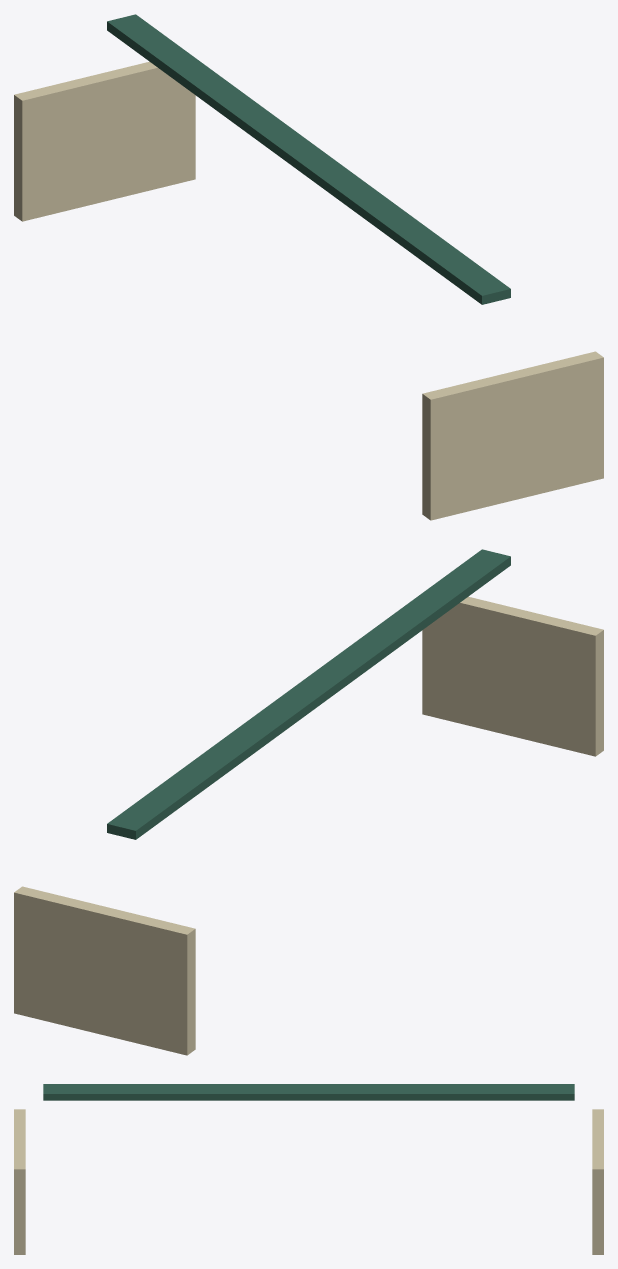
File: vls8_ignition.obj
The picture shows the model from 3 angles, top to bottom: view 1: azimuth 30°, elevation 25°; view 2: azimuth 150°, elevation 25°; view 3: azimuth 270°, elevation 25°; orthographic projection. The views are drawn at different scales.
Visible parts, largest first — view 1: vls8_ignition; view 2: vls8_ignition; view 3: vls8_ignition.
Boxes of the visible parts, x1,y1,x2,y2 form: vls8_ignition: (14, 14, 603, 520); vls8_ignition: (14, 549, 603, 1055); vls8_ignition: (14, 1084, 603, 1254).
Size of the model in its own units: 1.2 by 1.27 by 5.
